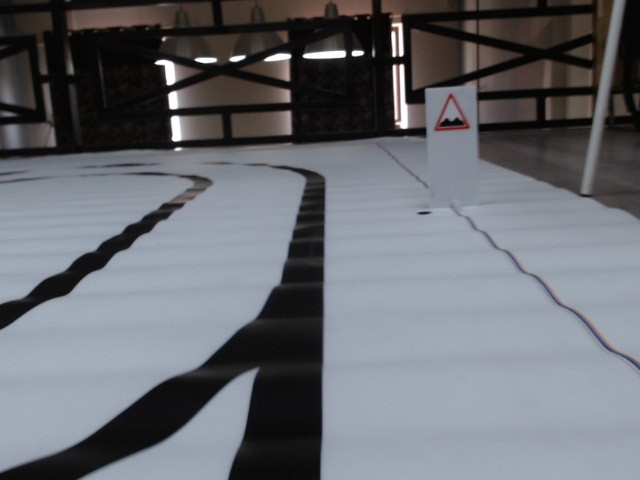Nerov: (430, 94, 473, 134)
